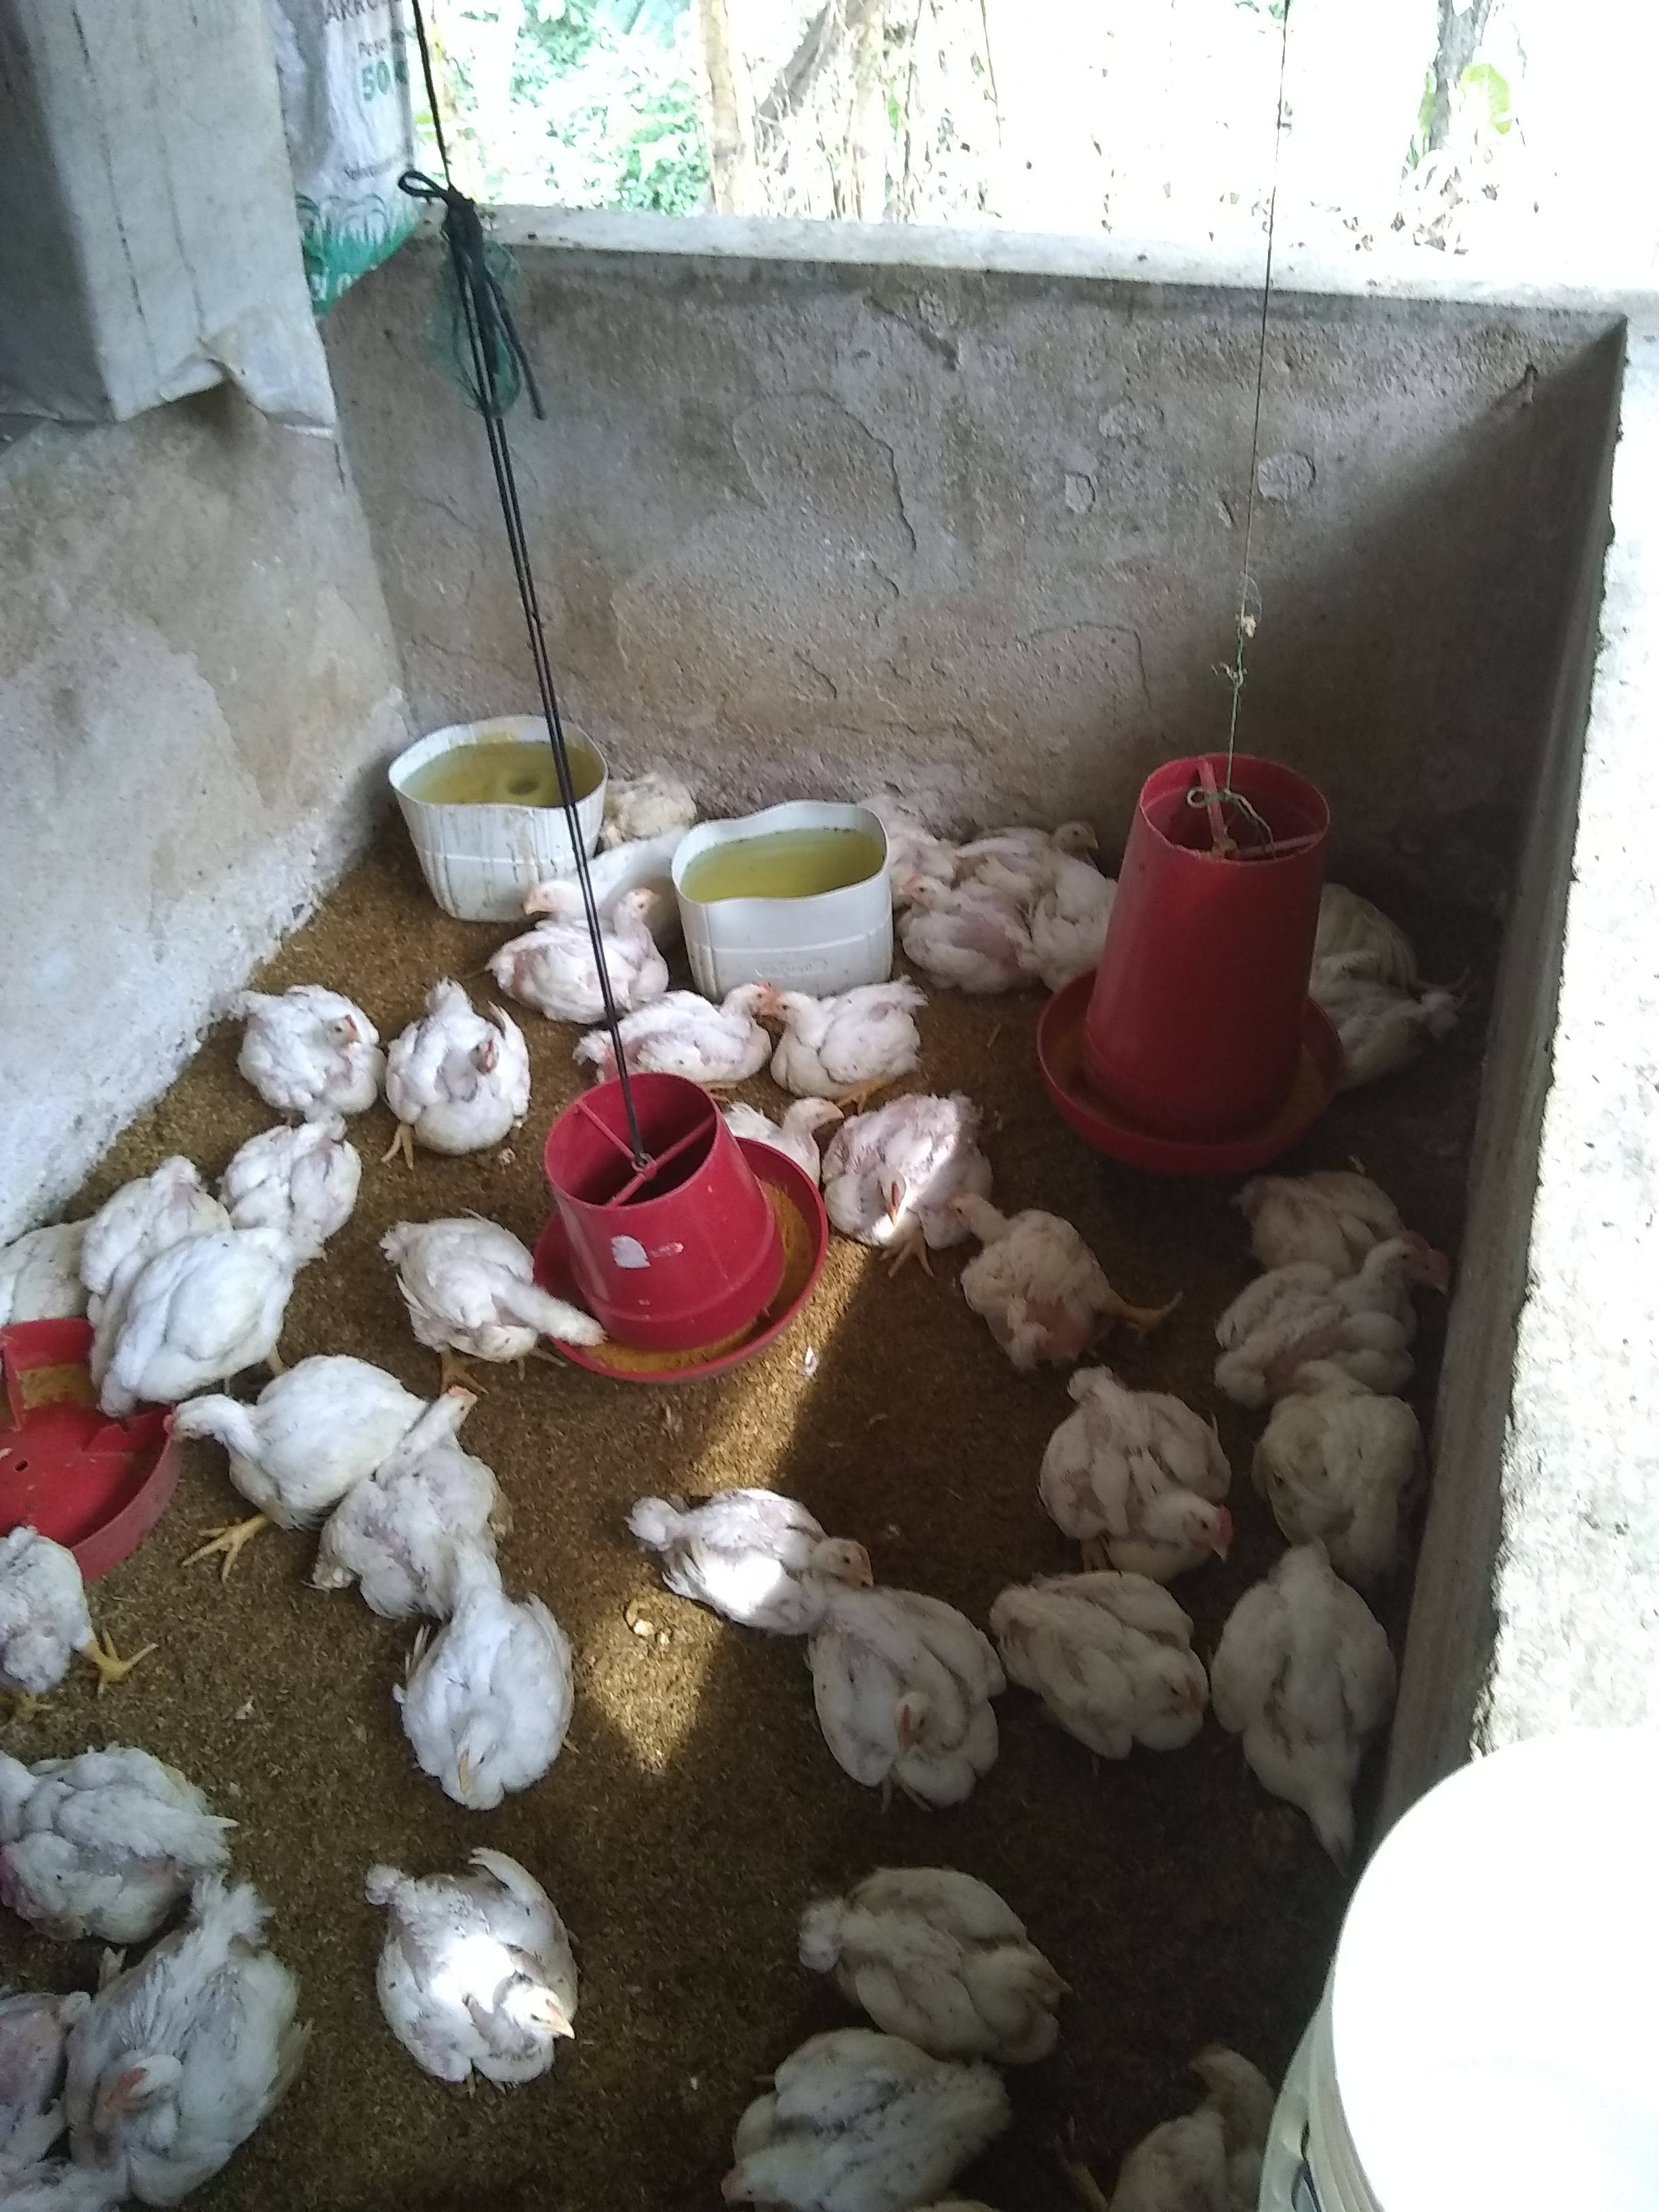Pollos: (59, 1912, 281, 2200), (1236, 1545, 1399, 1881), (714, 2047, 1007, 2209), (389, 1858, 589, 2087), (2, 1742, 223, 1921), (829, 1867, 1072, 2029), (406, 1581, 561, 1808), (1012, 1580, 1206, 1742), (1253, 1360, 1424, 1538), (91, 1223, 270, 1392), (401, 1219, 606, 1360), (836, 1620, 992, 1806), (948, 1193, 1122, 1350), (1075, 1395, 1230, 1568), (1112, 2038, 1263, 2212), (1241, 1228, 1425, 1357), (667, 1494, 873, 1602), (162, 1374, 324, 1507), (357, 1385, 477, 1529), (239, 1115, 357, 1252), (840, 1097, 948, 1235), (1317, 951, 1473, 1045), (775, 970, 910, 1068), (411, 1012, 523, 1122), (633, 974, 772, 1059), (260, 989, 376, 1082), (589, 766, 692, 852), (606, 883, 662, 970), (903, 867, 979, 930), (1019, 817, 1101, 871), (775, 1097, 842, 1141), (525, 878, 582, 920)
